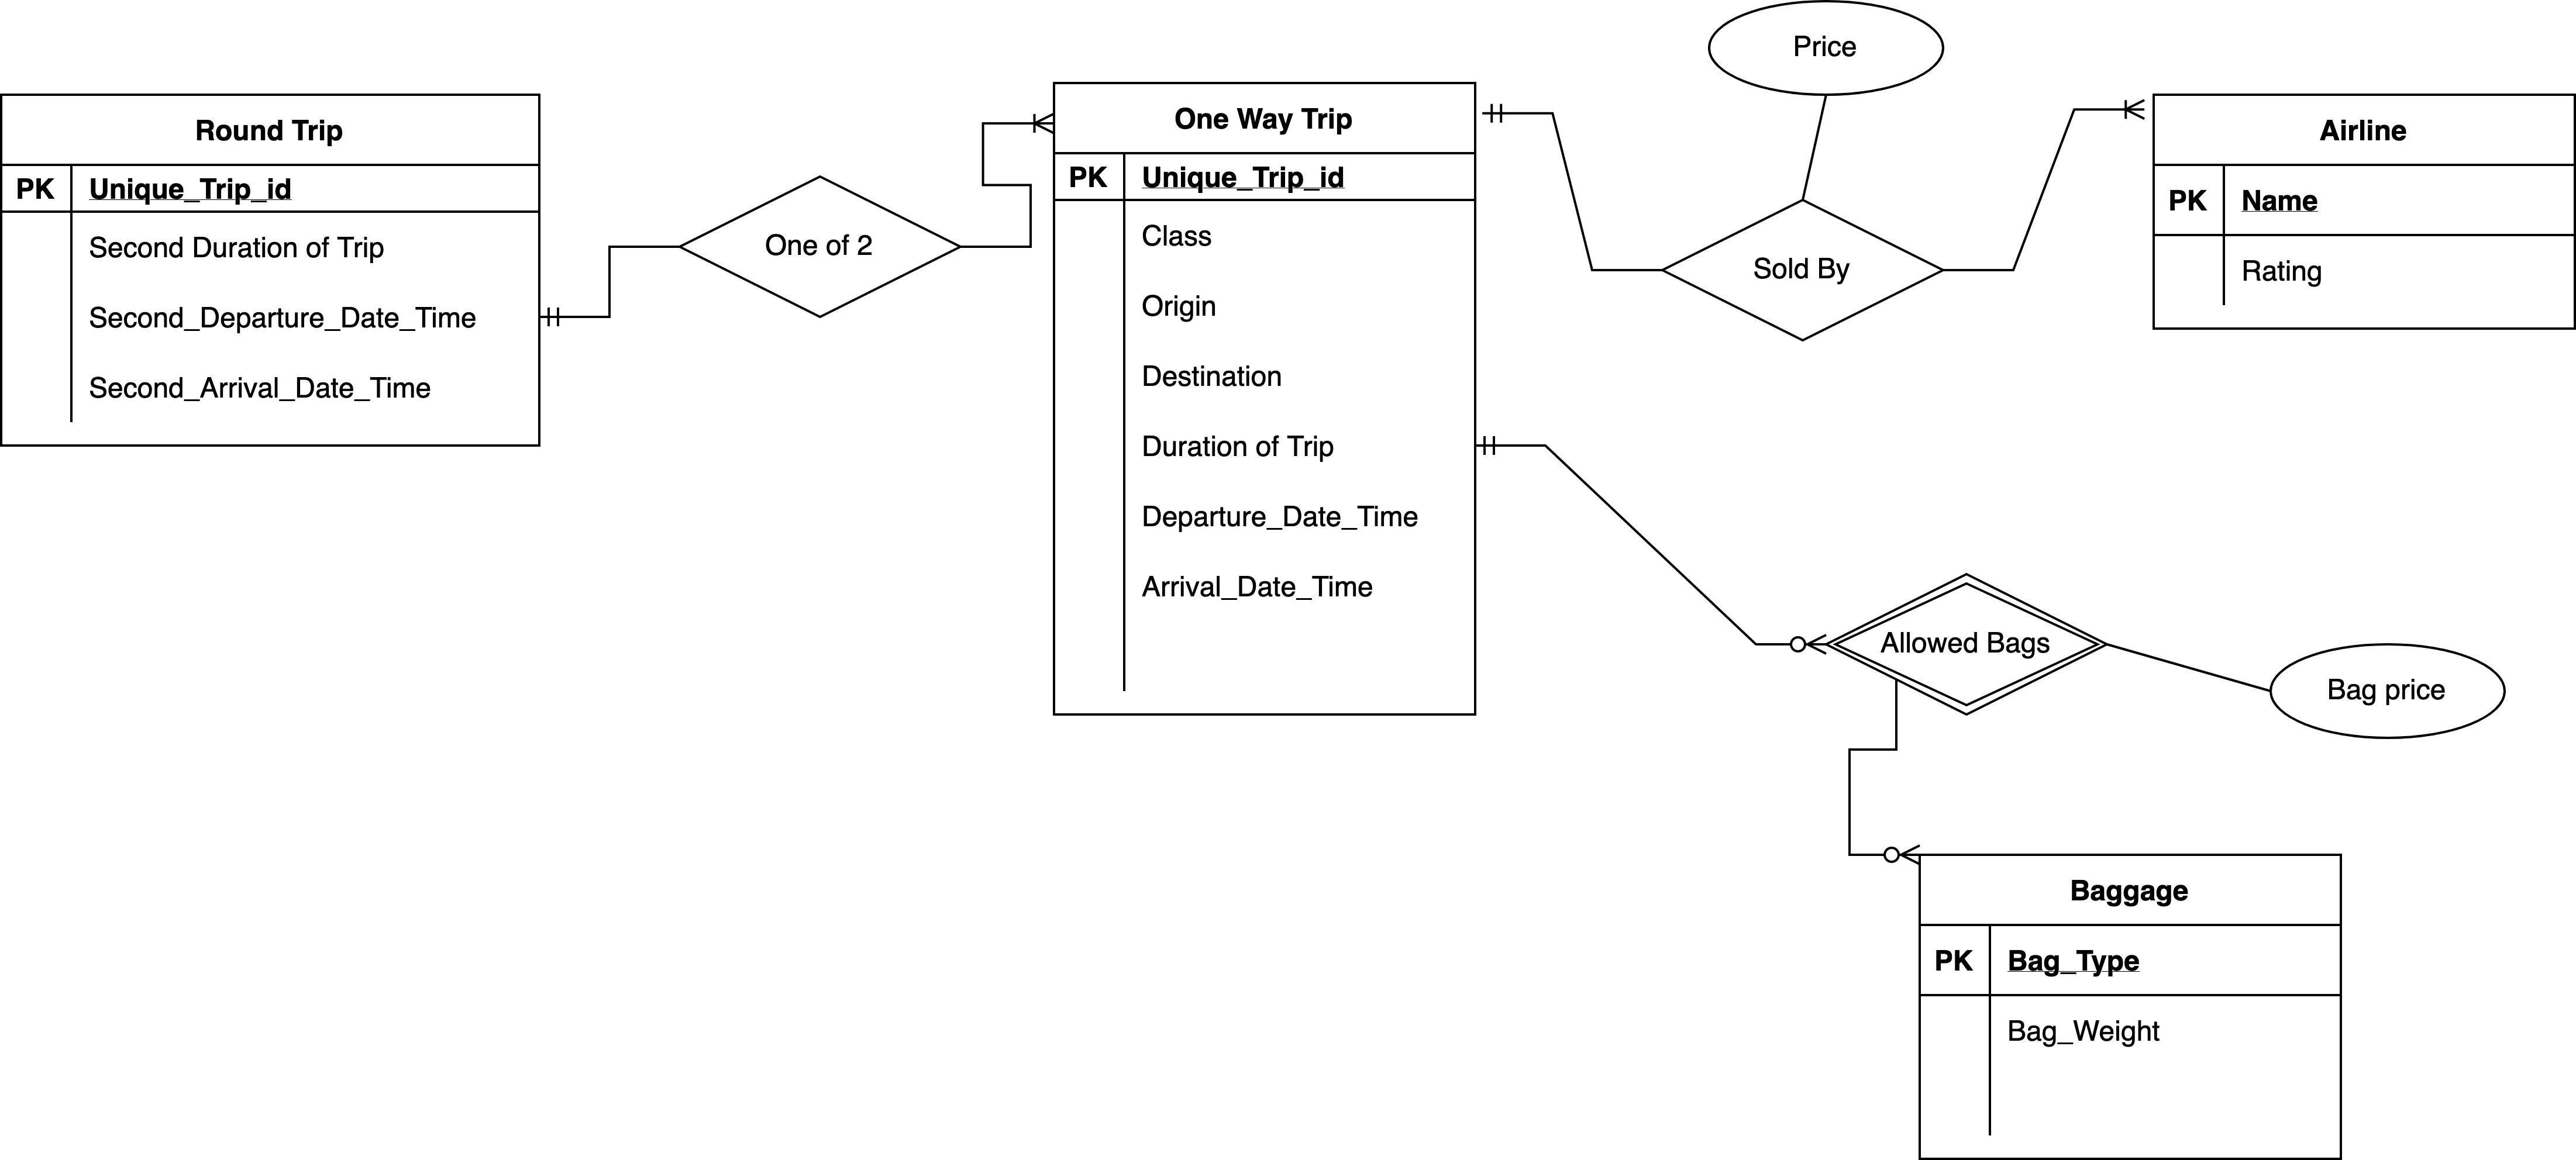attribute: (1709, 0, 1945, 99), (2272, 638, 2499, 738)
entity: (1048, 76, 1483, 721), (0, 92, 544, 449), (1916, 848, 2343, 1160), (2150, 89, 2576, 335)
relationship: (1669, 197, 1942, 335), (678, 182, 956, 317)
weakrelationship: (1827, 578, 2108, 711)
